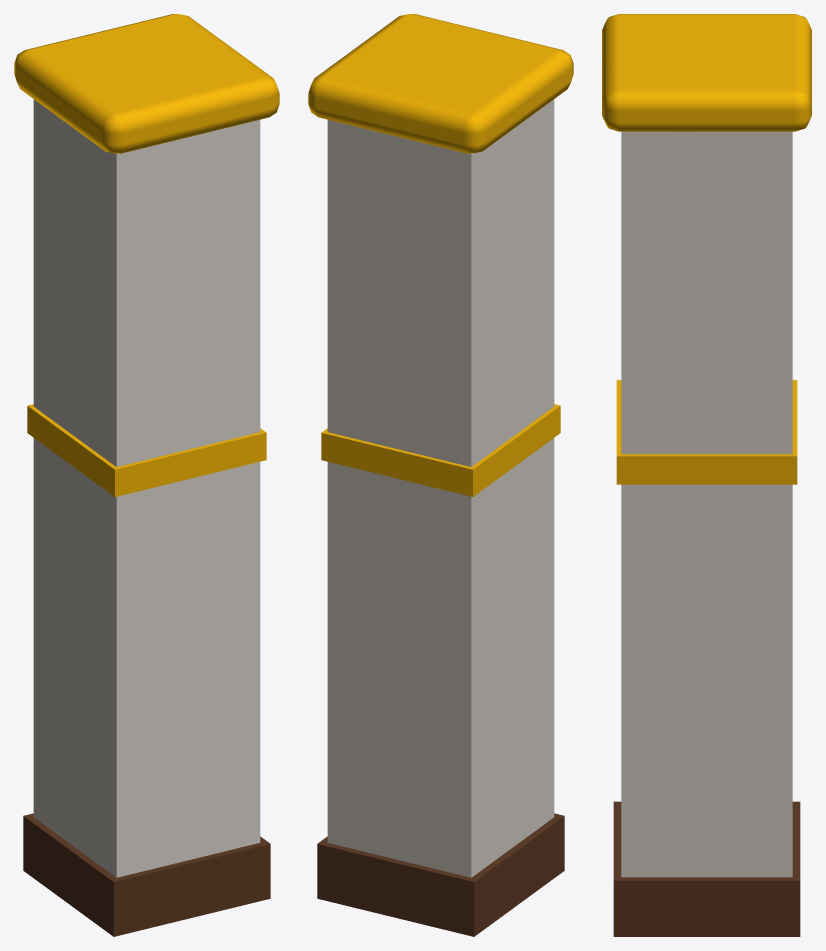
The model's file is pfosten_halb.glb.
3 renders of one model, left to right at view 1: azimuth 30°, elevation 25°; view 2: azimuth 150°, elevation 25°; view 3: azimuth 270°, elevation 25°, orthographic. The views are drawn at different scales.
Parts seen in each view (by area): view 1: pfosten_halb; view 2: pfosten_halb; view 3: pfosten_halb.
Part boxes in pixels (box(x1,y1,x2,y2)): pfosten_halb: box(14, 14, 279, 936); pfosten_halb: box(308, 14, 573, 936); pfosten_halb: box(602, 14, 811, 936).
Bounding box in the file's own units: 0.27 × 1.2 × 0.27.
